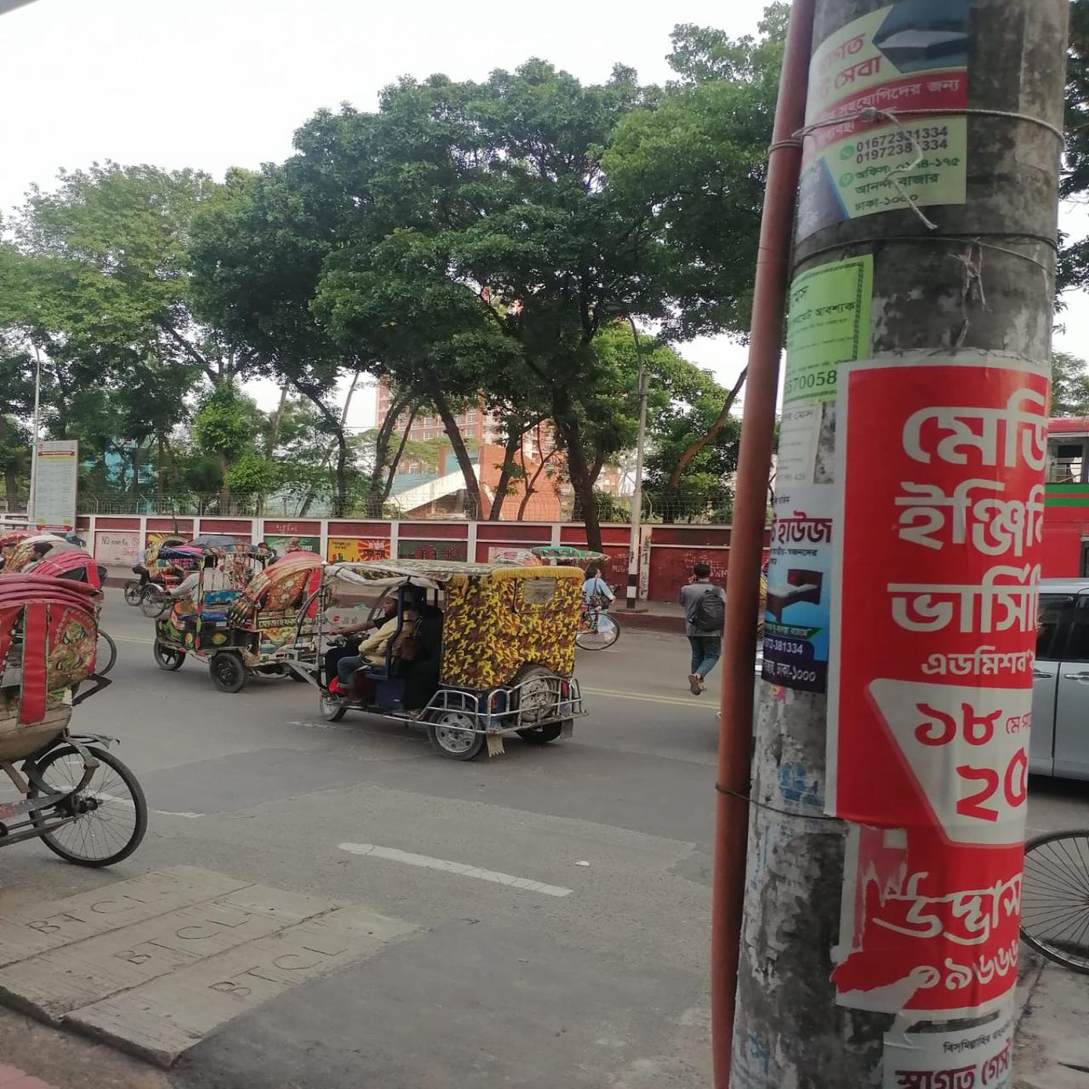person: (679, 559, 731, 702)
